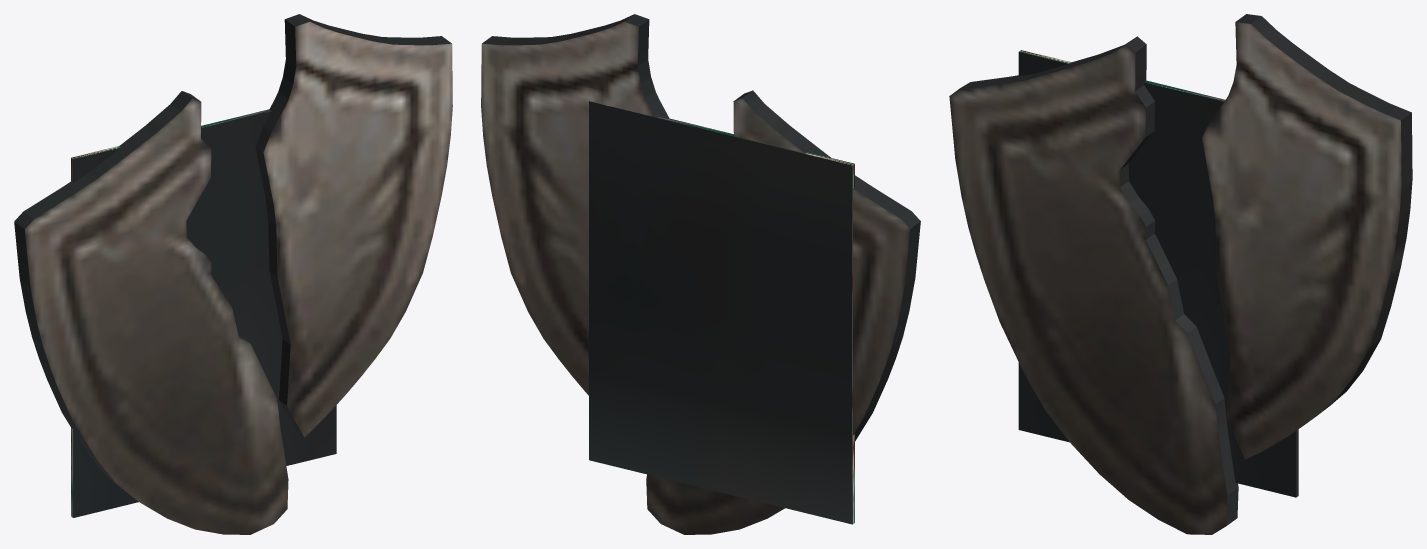
File: Durability.glb
3 views of the same model, side by side, from view 1: azimuth 30°, elevation 25°; view 2: azimuth 150°, elevation 25°; view 3: azimuth 330°, elevation 25° (orthographic). The views are drawn at different scales.
Parts seen in each view (by area): view 1: Cube; view 2: Cube; view 3: Cube.
Part boxes in pixels (x1,y1,x2,y2): Cube: [14, 14, 452, 534]; Cube: [481, 14, 920, 534]; Cube: [949, 14, 1412, 534].
Bounding box in the file's own units: 1.66 × 1.85 × 0.0738.
3 materials, 3 textured.
